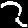Z: (0, 0, 28, 28)
